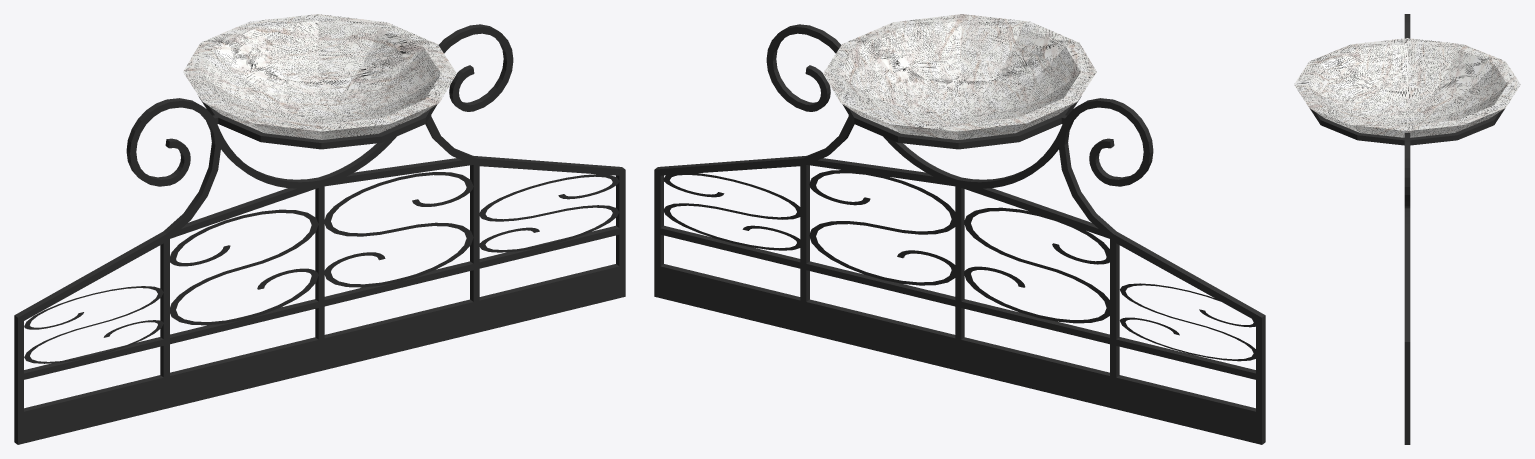
Rendered from fence_pedistal.dae.
3 views of the same model, side by side, from view 1: azimuth 30°, elevation 25°; view 2: azimuth 150°, elevation 25°; view 3: azimuth 270°, elevation 25° (orthographic). The views are drawn at different scales.
Visible parts, largest first — view 1: group_2 (×16), group_1, group_3; view 2: group_2 (×16), group_1, group_3; view 3: group_1, group_2, group_3.
Part boxes in pixels (left/top/right/bottom): group_2 (×16): left=14, top=24, right=625, bottom=444; group_1: left=183, top=14, right=456, bottom=139; group_3: left=198, top=96, right=437, bottom=149; group_2 (×16): left=654, top=24, right=1265, bottom=444; group_1: left=823, top=14, right=1096, bottom=139; group_3: left=842, top=96, right=1081, bottom=149; group_1: left=1294, top=38, right=1520, bottom=137; group_2: left=1404, top=14, right=1410, bottom=444; group_3: left=1309, top=108, right=1505, bottom=145.
Bounding box in the file's own units: 39.37 × 15.73 × 18.93.
Materials: 2 (1 with a texture image).
